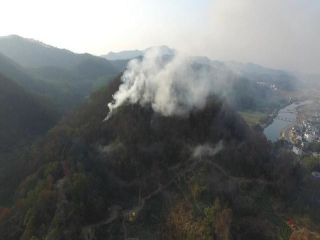smoke: (100, 9, 248, 129)
